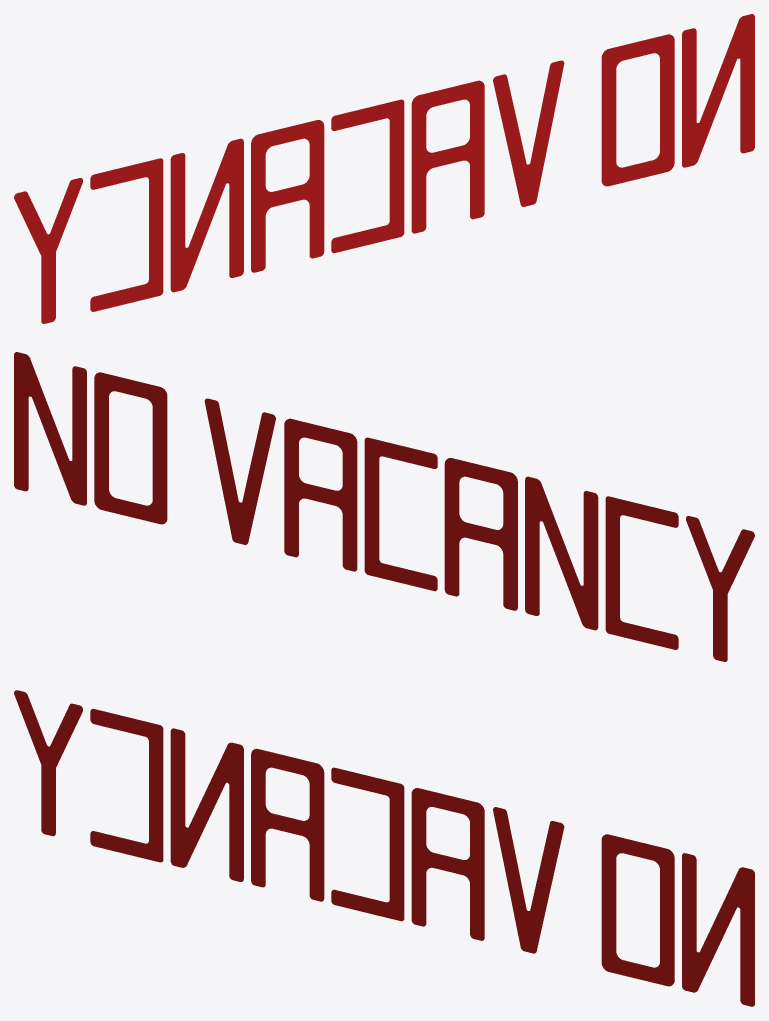
File: NO_VACANCY.fbx
The picture shows the model from 3 angles, top to bottom: view 1: azimuth 30°, elevation 25°; view 2: azimuth 150°, elevation 25°; view 3: azimuth 330°, elevation 25°; orthographic projection.
Visible parts, largest first — view 1: Text.001; view 2: Text.001; view 3: Text.001.
Boxes of the visible parts, <box> form: Text.001: <box>14,14,754,323</box>; Text.001: <box>14,352,754,661</box>; Text.001: <box>14,690,754,1006</box>.
Size of the model in its own units: 432 by 76.53 by 4.1e-05.
1 material, 1 textured.
